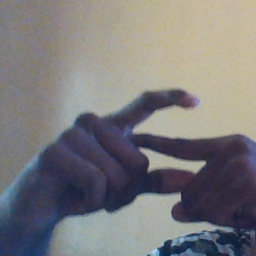E: (111, 86, 217, 208)
